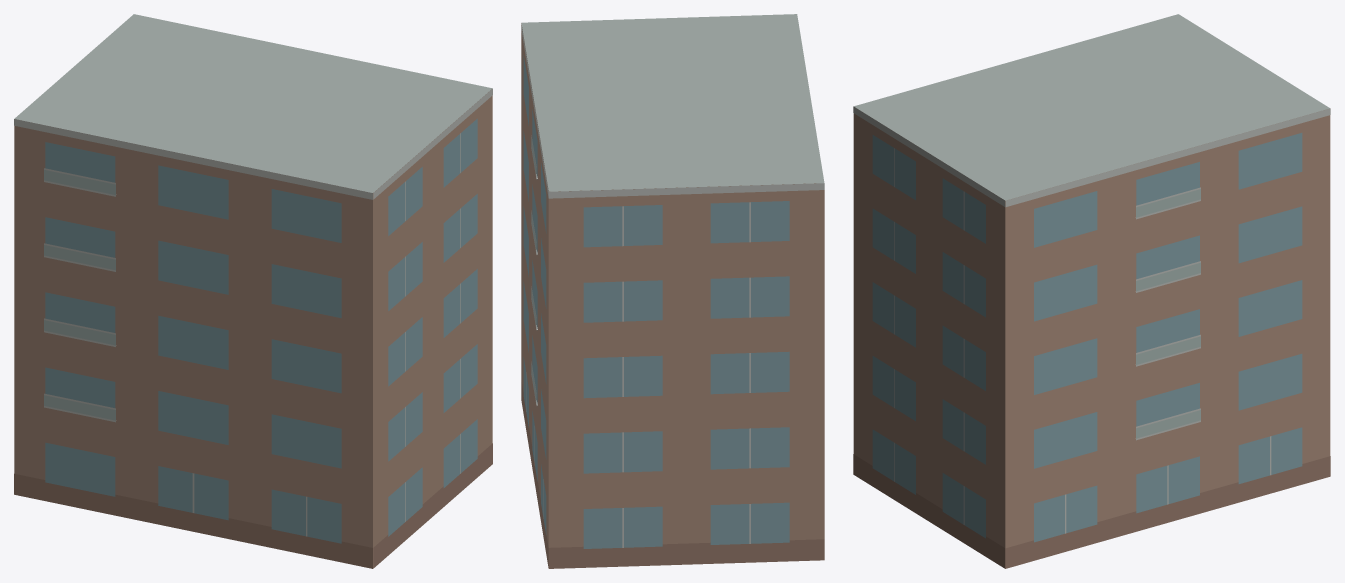
File: survey-upis-32892065.glb
3 renders of one model, left to right at view 1: azimuth 30°, elevation 25°; view 2: azimuth 150°, elevation 25°; view 3: azimuth 270°, elevation 25°, orthographic. The views are drawn at different scales.
Parts seen in each view (by area): view 1: survey-upis-32892065.tmp; view 2: survey-upis-32892065.tmp; view 3: survey-upis-32892065.tmp.
Part boxes in pixels (x1,y1,x2,y2): survey-upis-32892065.tmp: (14, 14, 492, 568); survey-upis-32892065.tmp: (521, 14, 824, 568); survey-upis-32892065.tmp: (853, 14, 1330, 568).
Bounding box in the file's own units: 14.58 × 13.4 × 15.74.
